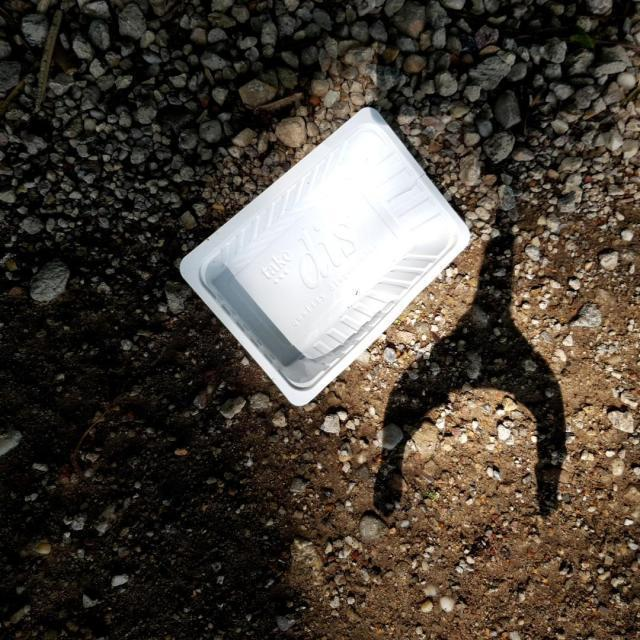Plastic: (174, 104, 473, 411)
